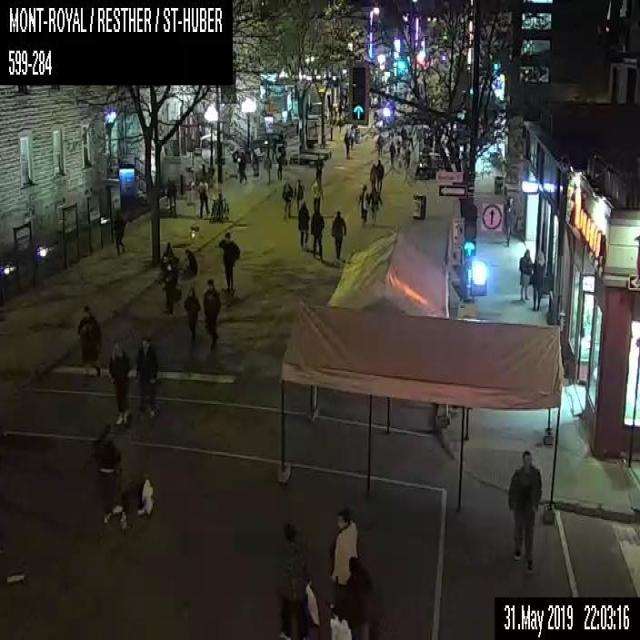pedestrian: (94, 425, 153, 524), (278, 520, 320, 638), (507, 450, 542, 570), (325, 556, 375, 638), (329, 511, 358, 608), (107, 340, 132, 425), (135, 337, 156, 419), (78, 304, 100, 376), (218, 231, 240, 295), (202, 276, 220, 351), (162, 260, 180, 315), (183, 287, 200, 339), (330, 210, 346, 262), (518, 248, 532, 302), (309, 209, 324, 258), (532, 250, 543, 311), (297, 200, 310, 248), (113, 210, 125, 254), (198, 176, 210, 217), (369, 184, 382, 221), (281, 180, 293, 218), (293, 178, 305, 214), (182, 248, 196, 278), (311, 178, 324, 210), (358, 185, 369, 222), (161, 240, 179, 262), (313, 154, 324, 188), (166, 180, 176, 214), (236, 150, 246, 182), (262, 151, 271, 181), (250, 148, 259, 177), (376, 158, 384, 190), (375, 130, 384, 158), (368, 162, 376, 189), (394, 130, 402, 154), (276, 151, 282, 180), (343, 131, 349, 159), (404, 147, 411, 168), (388, 141, 394, 165), (349, 125, 355, 149)
